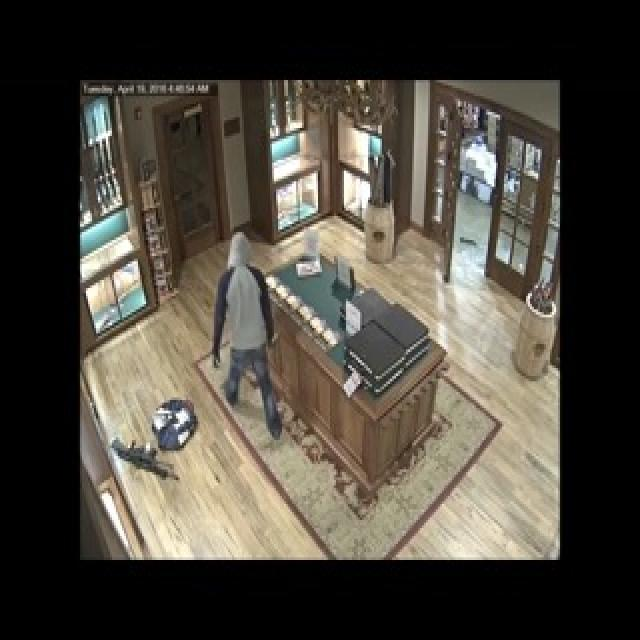thief: (211, 226, 276, 431)
